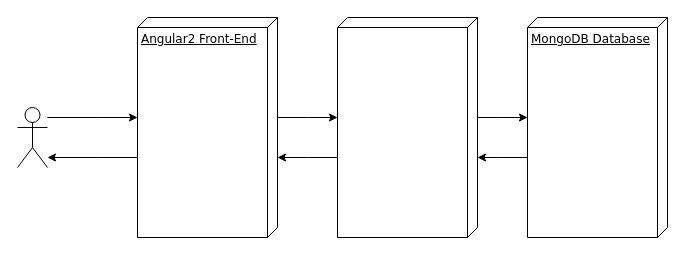
Image size: 685x255. Some labels were removed from this diagram. Each missing label, with the centre of its shape:
"Actor" belongs at (x=32, y=137).
"Express.js API" belongs at (x=407, y=127).
